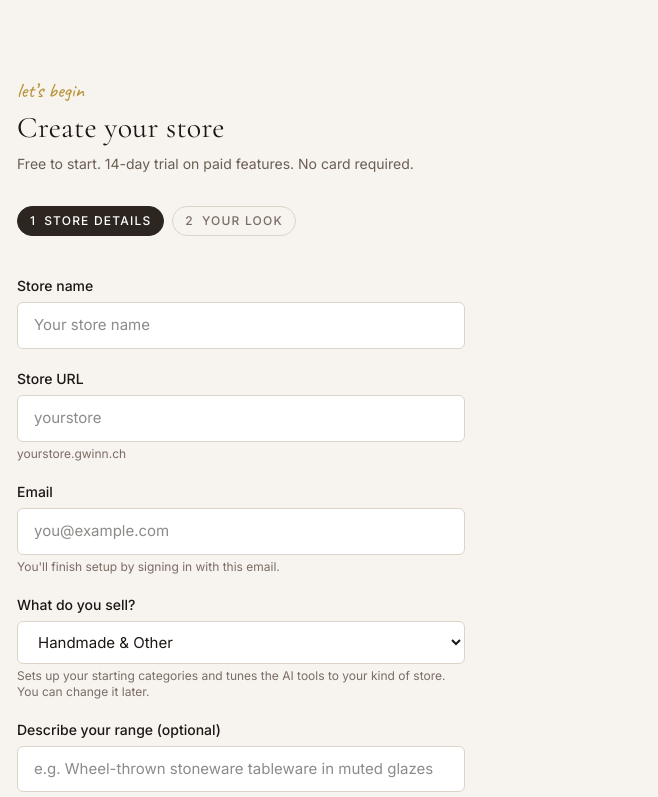
Test: Signup wizard › gates the look step behind valid store details
In the field with placeholder "Your store name": (241, 326) [17,302,465,349], type "Aurora Atelier"
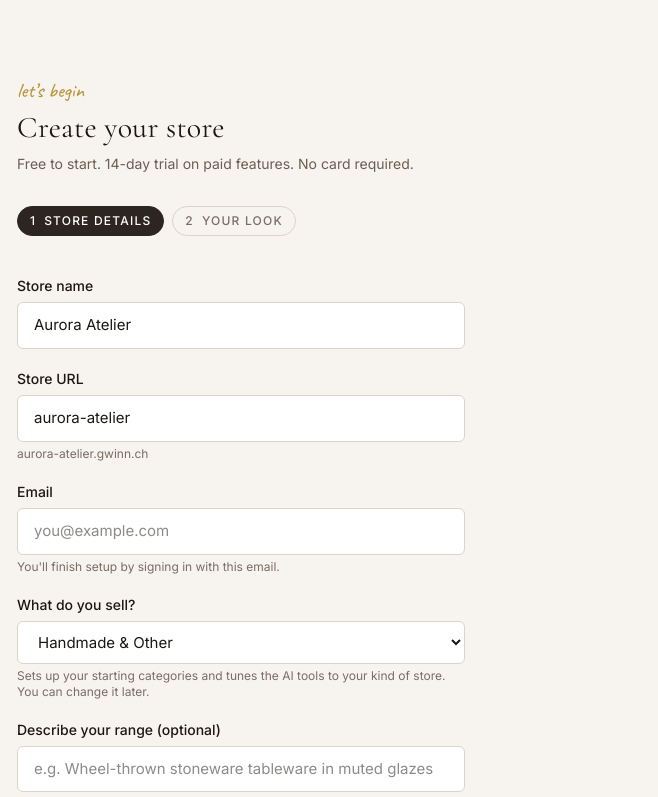
In the field with placeholder "you@example.com": (241, 531) [17,508,465,555], type "owner@aurora.example"
(page scrolled)
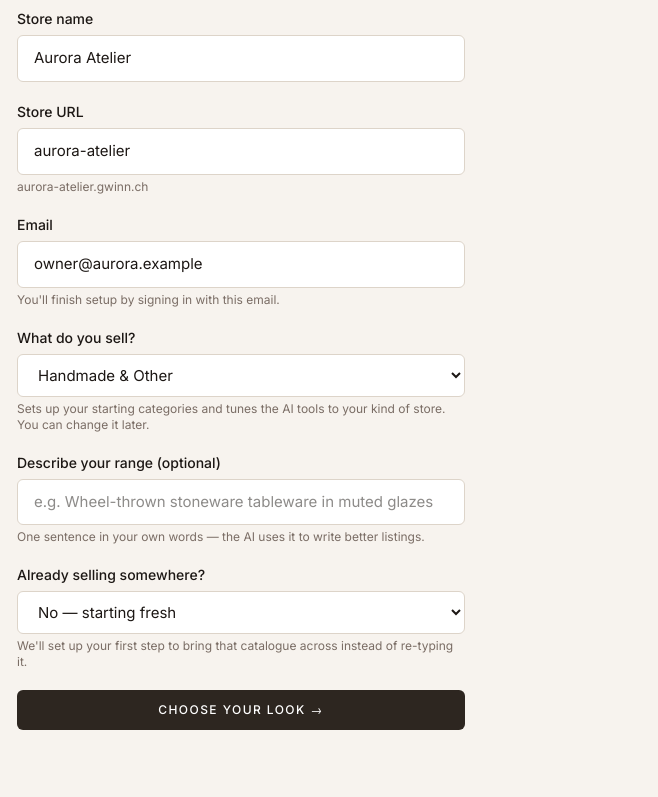
Click the button "Choose your look →": (241, 710) [17,690,465,730]
(page scrolled)
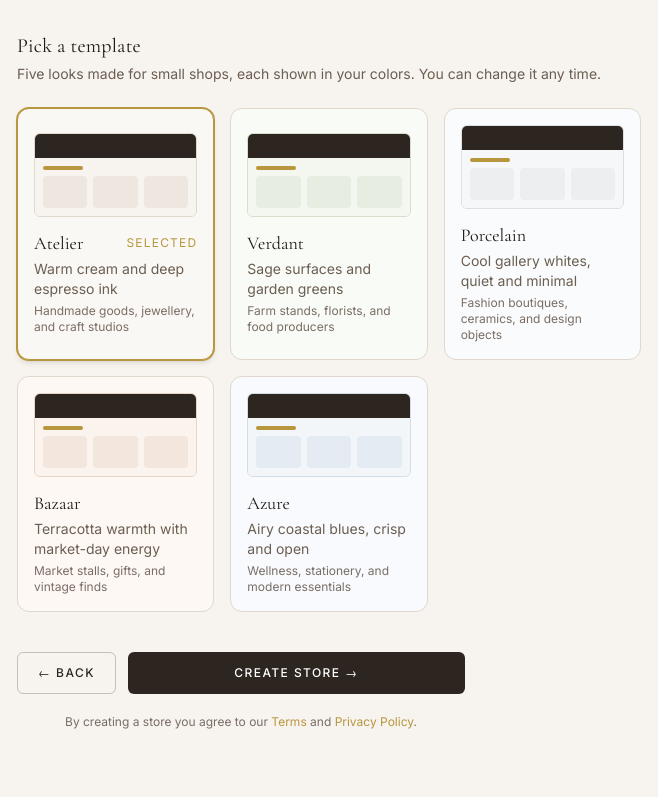
Expected: the text "Atelier" is shown, [34,232,84,254]
Expected: the text "Verdant" is shown, [247,232,304,254]
Expected: the text "Porcelain" is shown, [461,224,526,246]
